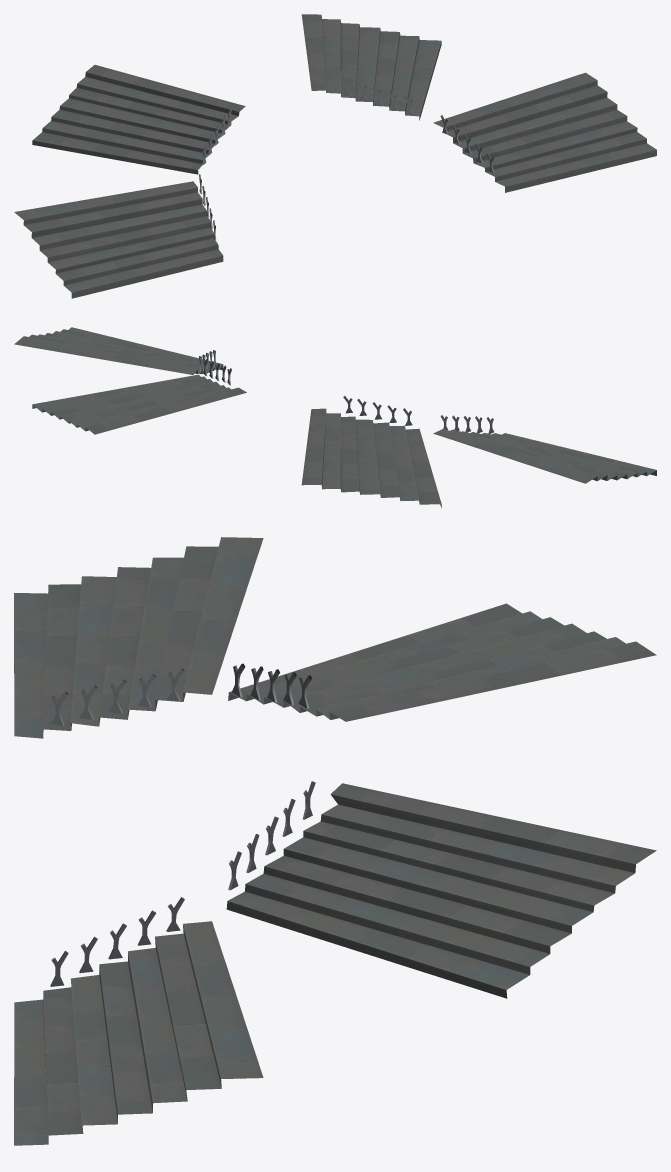
File: Indoor_MdBuild_Church01_Stairs_1615_0.fbx
The picture shows the model from 3 angles, top to bottom: view 1: azimuth 30°, elevation 25°; view 2: azimuth 150°, elevation 25°; view 3: azimuth 270°, elevation 25°; orthographic projection. The views are drawn at different scales.
Parts seen in each view (by area): view 1: Indoor_MdBuild_Church01_Stairs_1615_0; view 2: Indoor_MdBuild_Church01_Stairs_1615_0; view 3: Indoor_MdBuild_Church01_Stairs_1615_0.
Part boxes in pixels (x1,y1,x2,y2): Indoor_MdBuild_Church01_Stairs_1615_0: (14,14,656,298); Indoor_MdBuild_Church01_Stairs_1615_0: (14,327,656,508); Indoor_MdBuild_Church01_Stairs_1615_0: (14,537,656,1145).
Bounding box in the file's own units: 29.36 × 3.79 × 14.43.
